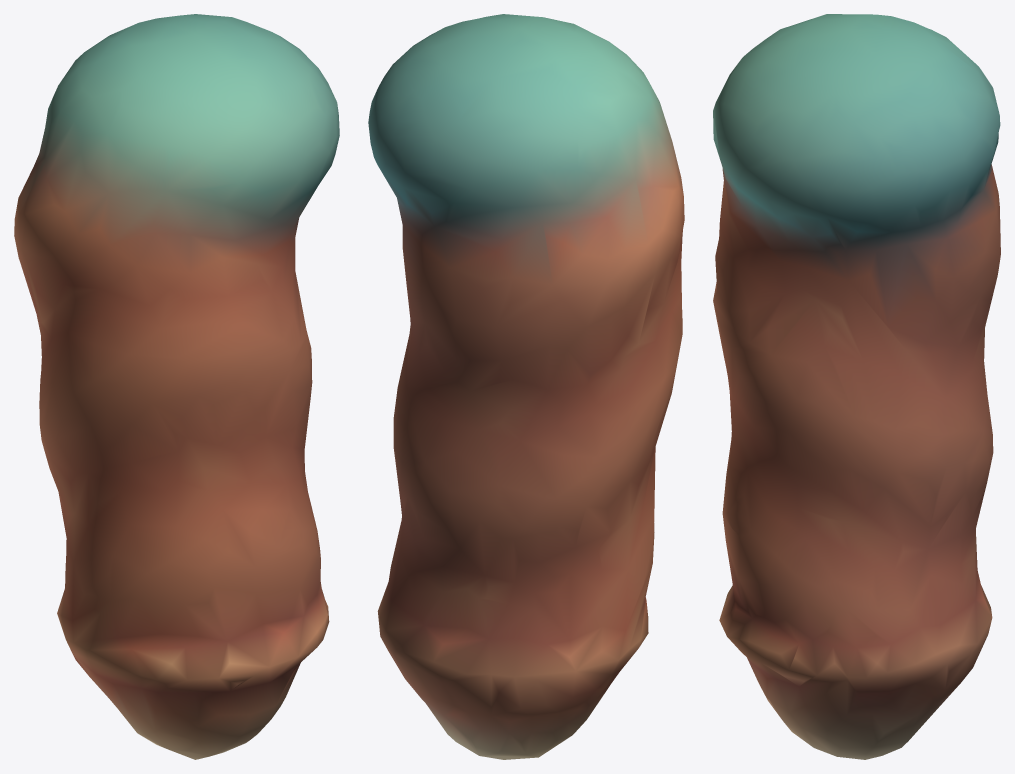
The model's file is hero_uarm_r.glb.
The picture shows the model from 3 angles, left to right: view 1: azimuth 30°, elevation 25°; view 2: azimuth 150°, elevation 25°; view 3: azimuth 270°, elevation 25°; orthographic projection.
Parts seen in each view (by area): view 1: geometry_0; view 2: geometry_0; view 3: geometry_0.
Boxes of the visible parts, <box> form: geometry_0: <box>14,14,339,759</box>; geometry_0: <box>368,14,684,759</box>; geometry_0: <box>713,14,1000,759</box>.
Size of the model in its own units: 0.1556 by 0.3759 by 0.1365.
